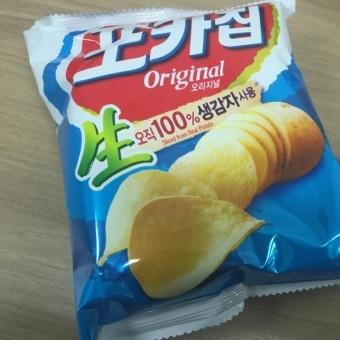snack: (23, 0, 340, 340)
